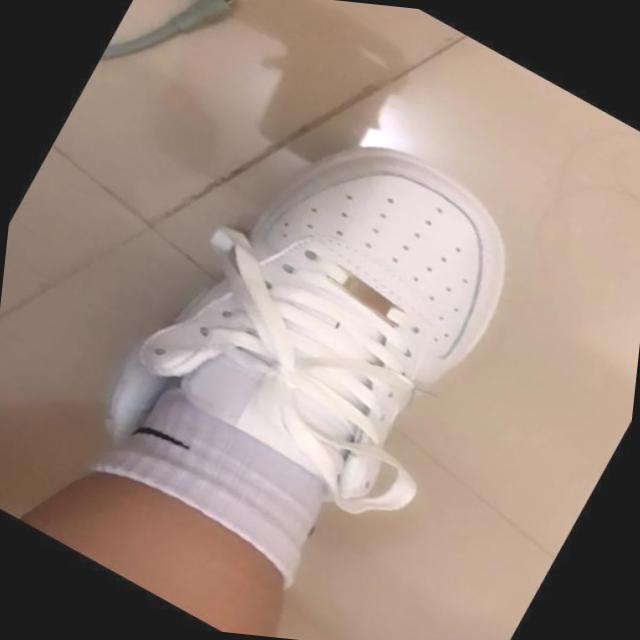nike_fake_airforce: (67, 61, 566, 604)
